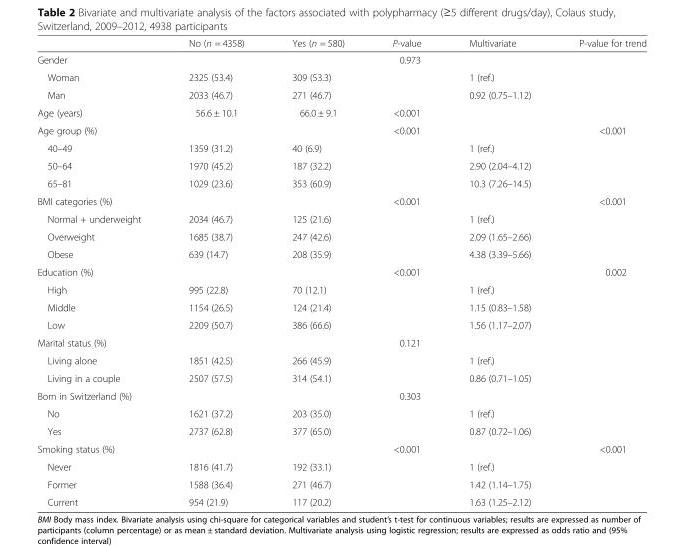table: (36, 37, 646, 507)
table column: (36, 37, 164, 507), (444, 37, 554, 507), (164, 37, 267, 507), (267, 37, 367, 507), (554, 37, 646, 507), (367, 37, 444, 507)
table column header: (36, 37, 646, 50)
table row: (36, 50, 646, 68), (36, 85, 646, 103), (36, 103, 646, 121), (36, 138, 646, 156), (36, 156, 646, 174), (36, 174, 646, 192), (36, 209, 646, 227), (36, 227, 646, 245), (36, 262, 646, 280), (36, 280, 646, 298), (36, 315, 646, 333), (36, 333, 646, 351), (36, 368, 646, 386), (36, 386, 646, 404), (36, 404, 646, 422), (36, 439, 646, 457), (36, 457, 646, 475), (36, 68, 646, 85), (36, 121, 646, 138), (36, 192, 646, 209), (36, 245, 646, 262), (36, 298, 646, 315), (36, 351, 646, 368), (36, 422, 646, 439), (36, 475, 646, 492), (36, 492, 646, 507), (36, 37, 646, 50)
